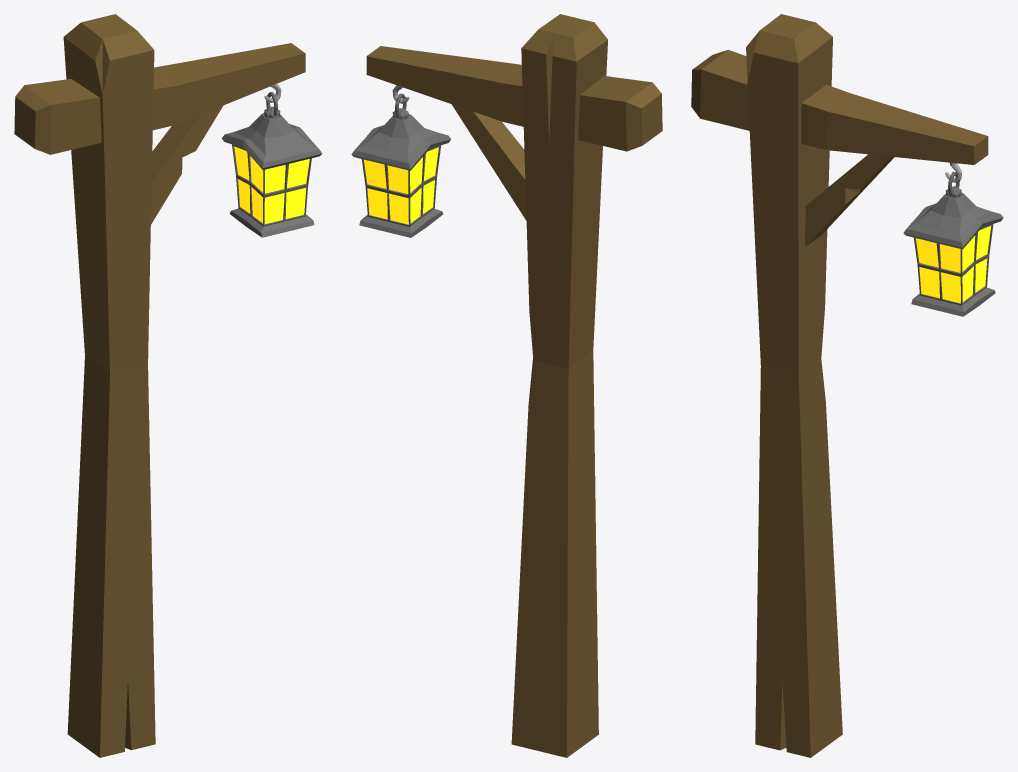
Rendered from lamp_post_3.glb.
3 renders of one model, left to right at view 1: azimuth 30°, elevation 25°; view 2: azimuth 150°, elevation 25°; view 3: azimuth 330°, elevation 25°, orthographic.
Visible parts, largest first — view 1: Cube, Cube.001, Cube.008, Cube.002; view 2: Cube, Cube.001, Cube.008, Cube.002; view 3: Cube, Cube.001, Cube.008, Cube.002.
Boxes of the visible parts, <box> form: Cube: <box>63,14,155,757</box>; Cube.001: <box>14,43,305,154</box>; Cube.008: <box>222,113,322,237</box>; Cube.002: <box>151,105,223,224</box>; Cube: <box>511,14,607,757</box>; Cube.001: <box>366,46,662,151</box>; Cube.008: <box>351,114,450,237</box>; Cube.002: <box>452,104,526,220</box>; Cube: <box>746,14,842,757</box>; Cube.001: <box>691,49,988,164</box>; Cube.008: <box>903,193,1003,316</box>; Cube.002: <box>805,154,894,245</box>.
Bounding box in the file's own units: 1.66 × 4.07 × 0.4225.
